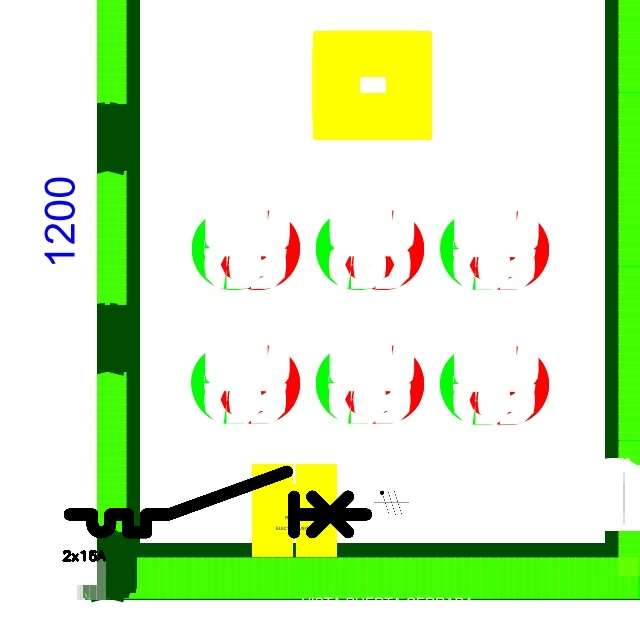interruptor_termomagnetico: (62, 464, 374, 540)
